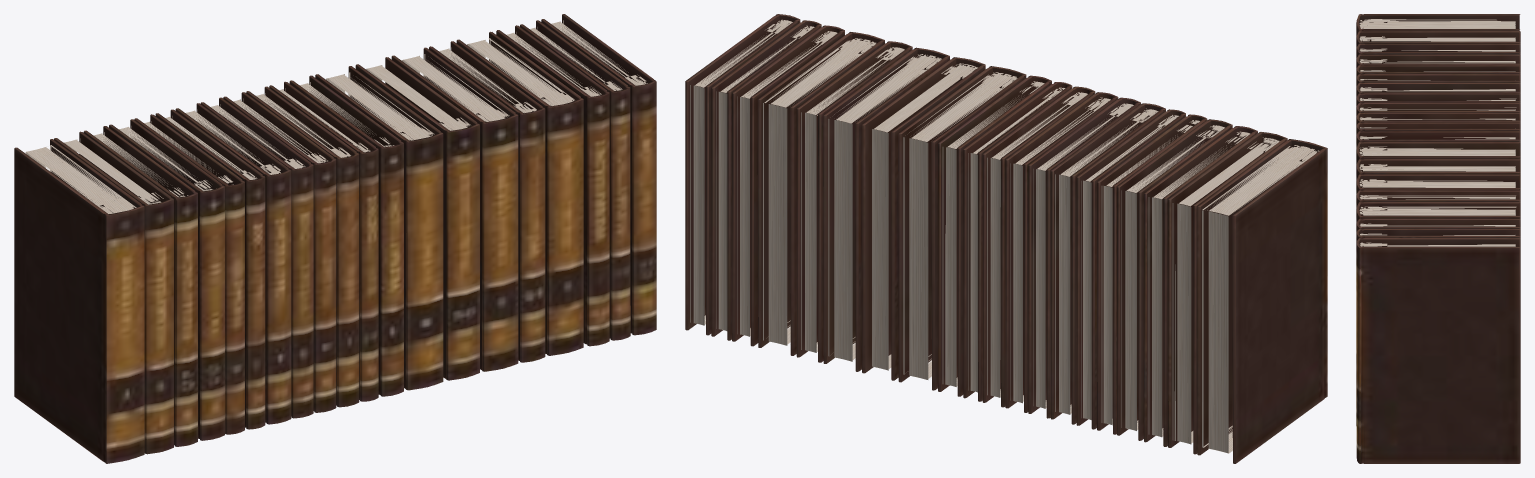
Rendered from book_encyclopedia_set_01.glb.
3 renders of one model, left to right at view 1: azimuth 30°, elevation 25°; view 2: azimuth 150°, elevation 25°; view 3: azimuth 270°, elevation 25°, orthographic. The views are drawn at different scales.
Parts seen in each view (by area): view 1: book_encyclopedia_set_01_book01, book_encyclopedia_set_01_book13, book_encyclopedia_set_01_book15, book_encyclopedia_set_01_book17, book_encyclopedia_set_01_book14, book_encyclopedia_set_01_book02, book_encyclopedia_set_01_book16, book_encyclopedia_set_01_book04, book_encyclopedia_set_01_book20, book_encyclopedia_set_01_book18, book_encyclopedia_set_01_book07, book_encyclopedia_set_01_book12 (+8 smaller); view 2: book_encyclopedia_set_01_book01, book_encyclopedia_set_01_book13, book_encyclopedia_set_01_book17, book_encyclopedia_set_01_book15, book_encyclopedia_set_01_book14, book_encyclopedia_set_01_book02, book_encyclopedia_set_01_book16, book_encyclopedia_set_01_book04, book_encyclopedia_set_01_book20, book_encyclopedia_set_01_book07, book_encyclopedia_set_01_book18, book_encyclopedia_set_01_book12 (+8 smaller); view 3: book_encyclopedia_set_01_book20, book_encyclopedia_set_01_book17, book_encyclopedia_set_01_book13, book_encyclopedia_set_01_book01, book_encyclopedia_set_01_book15, book_encyclopedia_set_01_book14, book_encyclopedia_set_01_book02, book_encyclopedia_set_01_book16, book_encyclopedia_set_01_book03, book_encyclopedia_set_01_book12, book_encyclopedia_set_01_book04, book_encyclopedia_set_01_book07 (+8 smaller).
Part boxes in pixels (bbox=[...]): book_encyclopedia_set_01_book01: bbox=[14, 139, 144, 463]; book_encyclopedia_set_01_book13: bbox=[315, 66, 443, 390]; book_encyclopedia_set_01_book15: bbox=[391, 47, 518, 371]; book_encyclopedia_set_01_book17: bbox=[456, 31, 583, 355]; book_encyclopedia_set_01_book14: bbox=[355, 57, 479, 380]; book_encyclopedia_set_01_book02: bbox=[54, 131, 173, 454]; book_encyclopedia_set_01_book16: bbox=[429, 41, 545, 362]; book_encyclopedia_set_01_book04: bbox=[109, 119, 224, 440]; book_encyclopedia_set_01_book20: bbox=[541, 14, 656, 335]; book_encyclopedia_set_01_book18: bbox=[496, 25, 609, 346]; book_encyclopedia_set_01_book07: bbox=[175, 103, 291, 424]; book_encyclopedia_set_01_book12: bbox=[289, 75, 403, 396]; book_encyclopedia_set_01_book01: bbox=[1197, 139, 1327, 463]; book_encyclopedia_set_01_book13: bbox=[898, 66, 1026, 390]; book_encyclopedia_set_01_book17: bbox=[757, 32, 884, 355]; book_encyclopedia_set_01_book15: bbox=[823, 47, 949, 371]; book_encyclopedia_set_01_book14: bbox=[861, 57, 985, 380]; book_encyclopedia_set_01_book02: bbox=[1168, 132, 1287, 454]; book_encyclopedia_set_01_book16: bbox=[796, 41, 912, 362]; book_encyclopedia_set_01_book04: bbox=[1117, 119, 1232, 440]; book_encyclopedia_set_01_book20: bbox=[685, 14, 800, 335]; book_encyclopedia_set_01_book07: bbox=[1050, 103, 1165, 424]; book_encyclopedia_set_01_book18: bbox=[732, 25, 844, 346]; book_encyclopedia_set_01_book12: bbox=[938, 75, 1051, 396]; book_encyclopedia_set_01_book20: bbox=[1356, 238, 1520, 463]; book_encyclopedia_set_01_book17: bbox=[1356, 202, 1520, 425]; book_encyclopedia_set_01_book13: bbox=[1356, 142, 1520, 189]; book_encyclopedia_set_01_book01: bbox=[1356, 14, 1520, 35]; book_encyclopedia_set_01_book15: bbox=[1356, 174, 1520, 194]; book_encyclopedia_set_01_book14: bbox=[1356, 159, 1520, 181]; book_encyclopedia_set_01_book02: bbox=[1356, 30, 1520, 47]; book_encyclopedia_set_01_book16: bbox=[1356, 190, 1520, 219]; book_encyclopedia_set_01_book03: bbox=[1356, 43, 1520, 58]; book_encyclopedia_set_01_book12: bbox=[1356, 131, 1520, 190]; book_encyclopedia_set_01_book04: bbox=[1356, 54, 1520, 77]; book_encyclopedia_set_01_book07: bbox=[1356, 82, 1520, 97].
Size of the model in its own units: 0.5513 by 0.2374 by 0.1636.
Materials: 2 (2 with a texture image).
